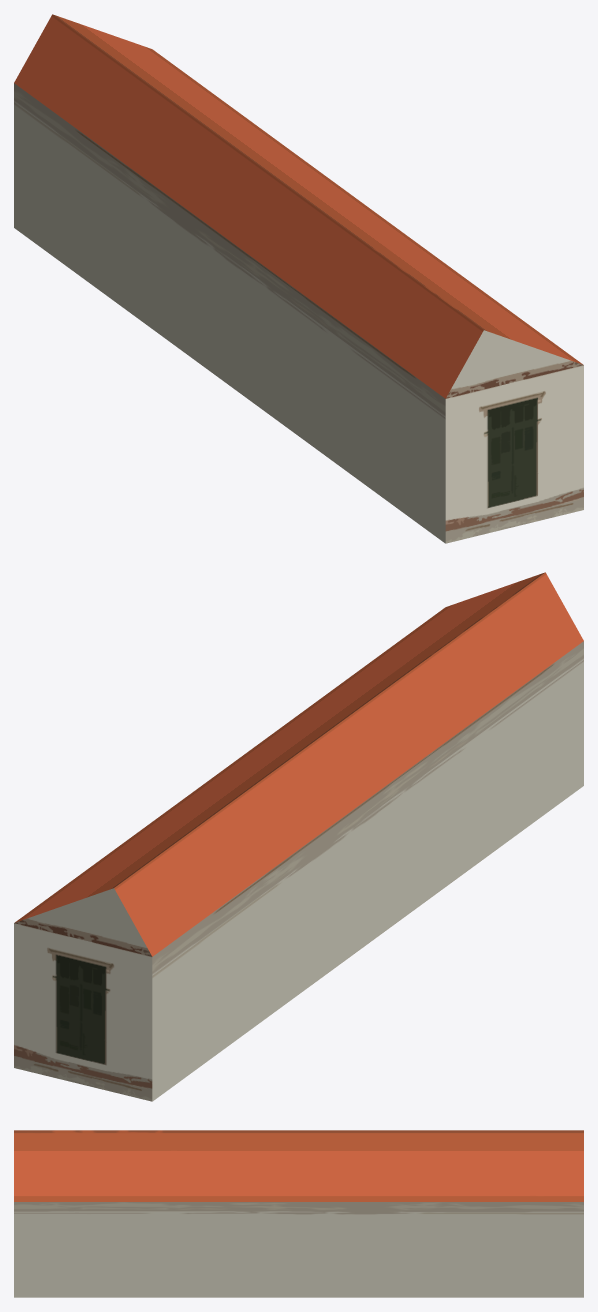
Rendered from SM_Building_Market_01.fbx.
The picture shows the model from 3 angles, top to bottom: view 1: azimuth 30°, elevation 25°; view 2: azimuth 150°, elevation 25°; view 3: azimuth 270°, elevation 25°; orthographic projection. The views are drawn at different scales.
Visible parts, largest first — view 1: SM_Building_Market_01; view 2: SM_Building_Market_01; view 3: SM_Building_Market_01.
Boxes of the visible parts, x1,y1,x2,y2 form: SM_Building_Market_01: (14, 14, 583, 543); SM_Building_Market_01: (14, 572, 583, 1101); SM_Building_Market_01: (14, 1130, 583, 1297).
Size of the model in its own units: 7.5 by 10.57 by 40.5.
